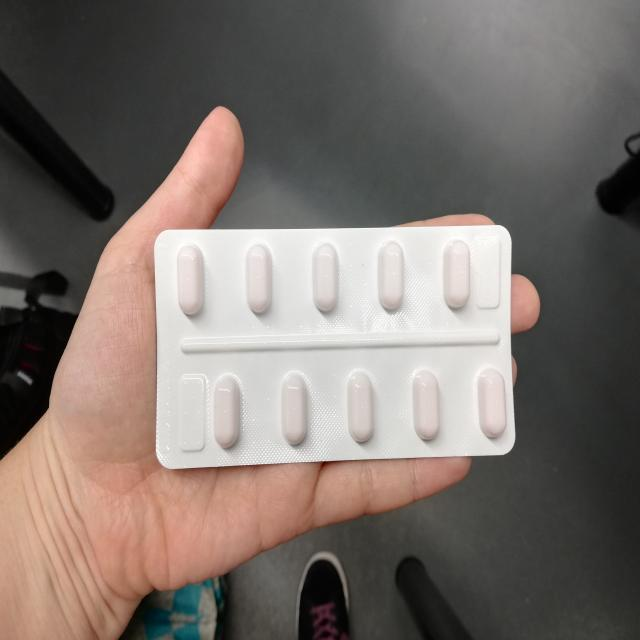Pill: (304, 233, 349, 328), (403, 359, 446, 456), (340, 363, 385, 452), (468, 361, 511, 452), (274, 359, 315, 452), (166, 240, 208, 330), (371, 235, 411, 328), (206, 368, 247, 456), (239, 246, 280, 324), (438, 234, 472, 320)
